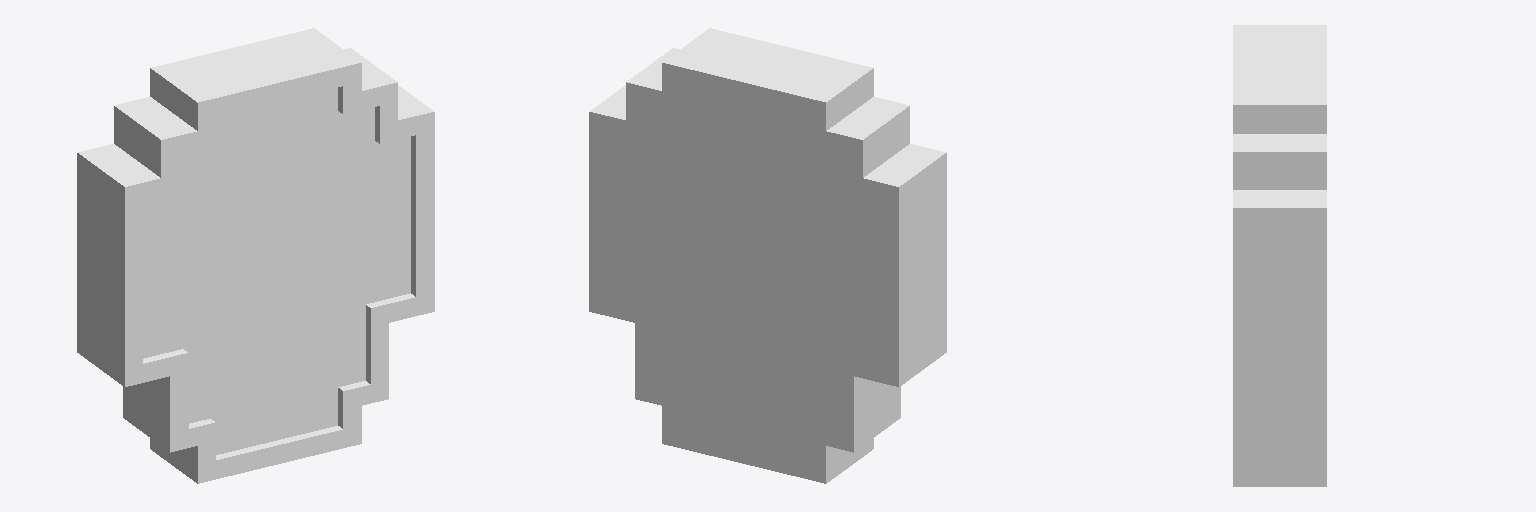
3 renders of one model, left to right at view 1: azimuth 30°, elevation 25°; view 2: azimuth 150°, elevation 25°; view 3: azimuth 270°, elevation 25°, orthographic.
Parts seen in each view (by area): view 1: 방패; view 2: 방패; view 3: 방패.
Boxes of the visible parts, x1=… form: 방패: x1=77, y1=28, x2=434, y2=483; 방패: x1=589, y1=28, x2=946, y2=483; 방패: x1=1233, y1=25, x2=1326, y2=486.
Size of the model in its own units: 34 by 40 by 9.